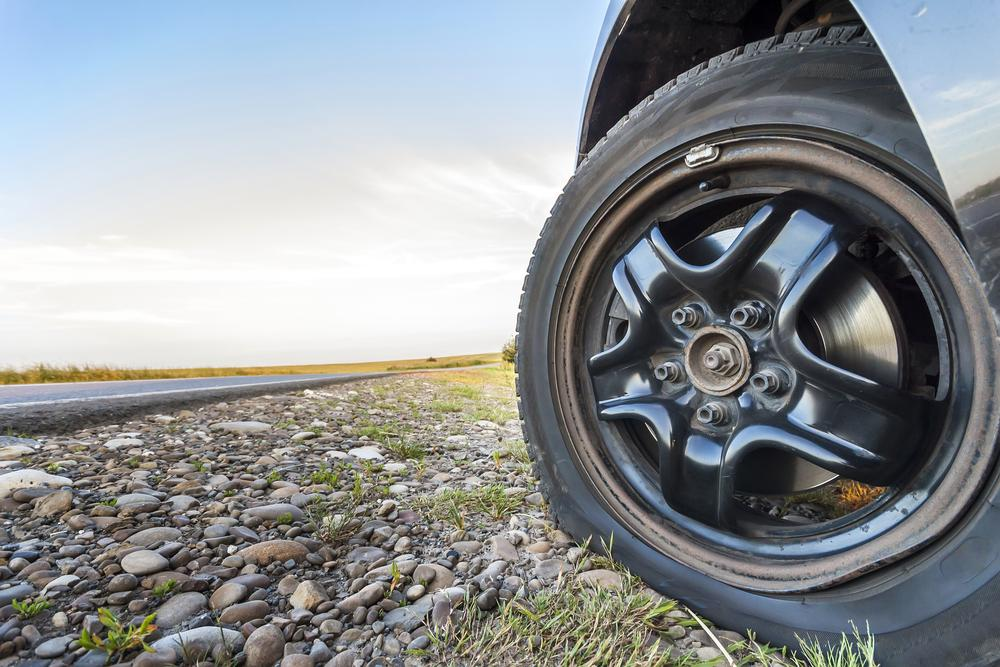tire flat: (513, 19, 1000, 667)
